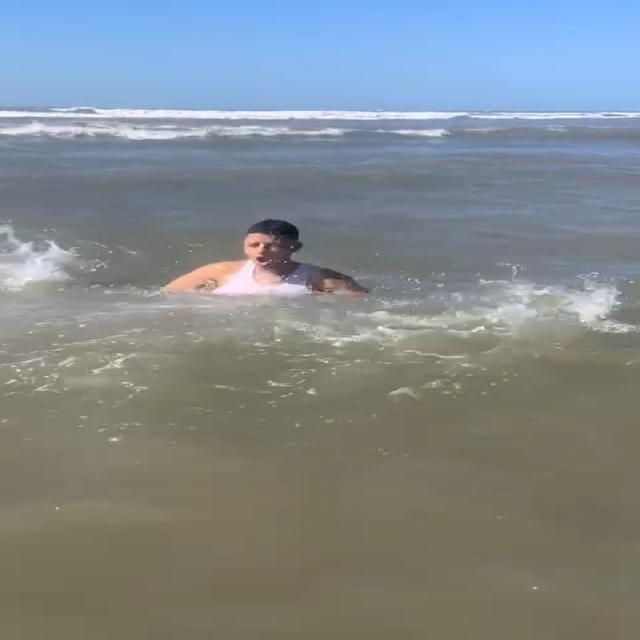Out of Water: (154, 216, 379, 302)
